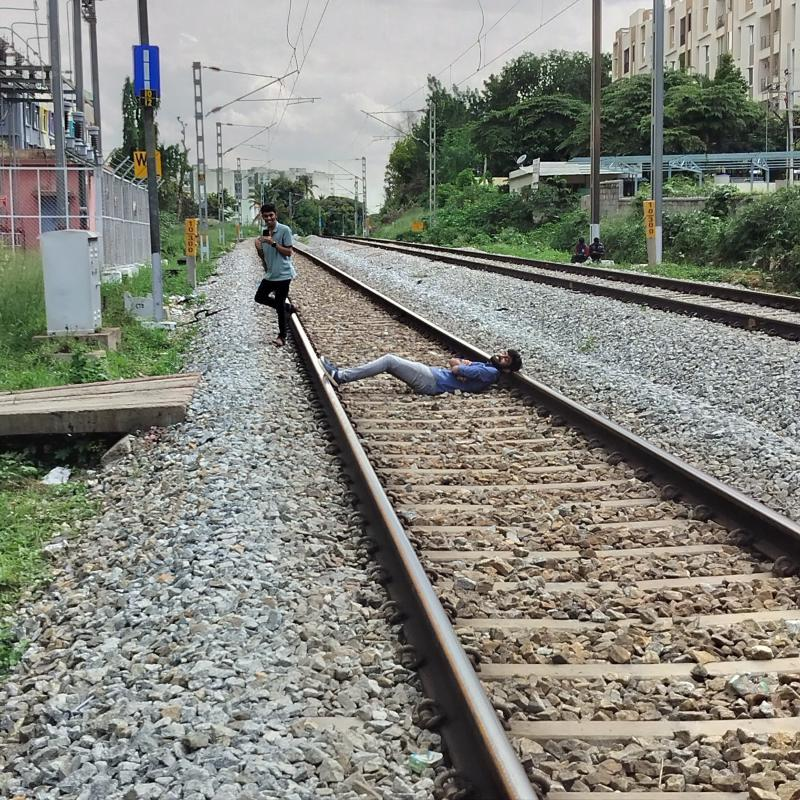sleeping: (315, 346, 548, 396)
